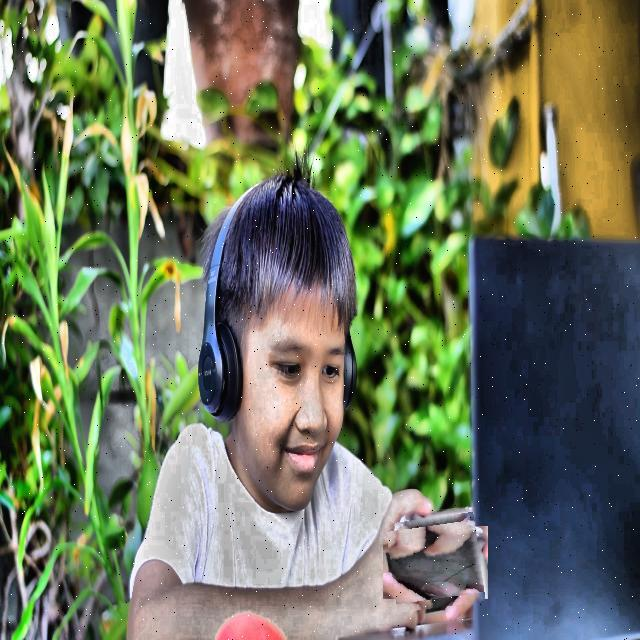Phone: (388, 516, 483, 610)
